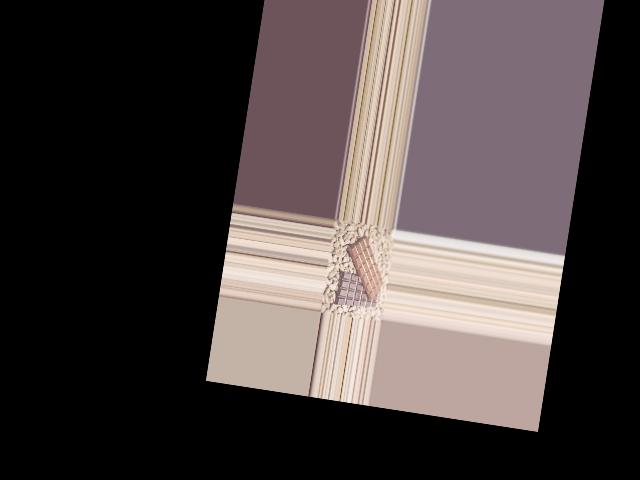chocolate: (331, 271, 382, 315)
